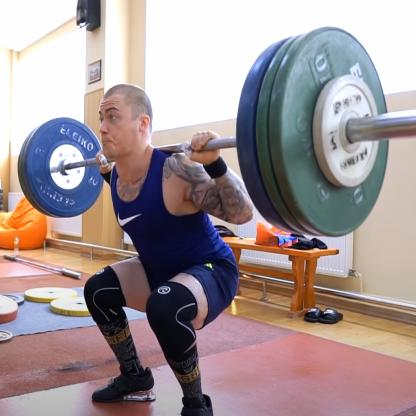barbell: (279, 26, 391, 239), (25, 117, 107, 220)
